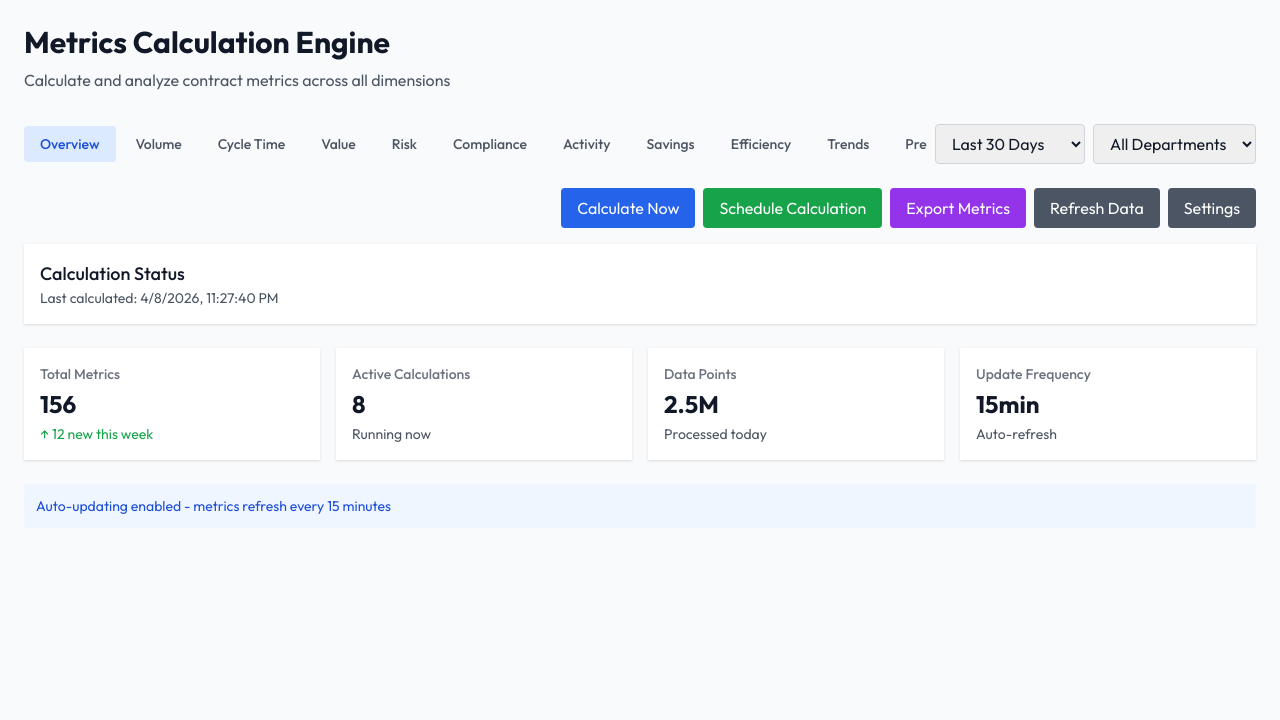
it: MetricsCalculationEngine › Cycle Time Calculations › should display cycle time metrics
The image size is (1280, 720).
Step 1. Click the tab "Cycle Time" → (252, 144), box [202, 126, 301, 162]
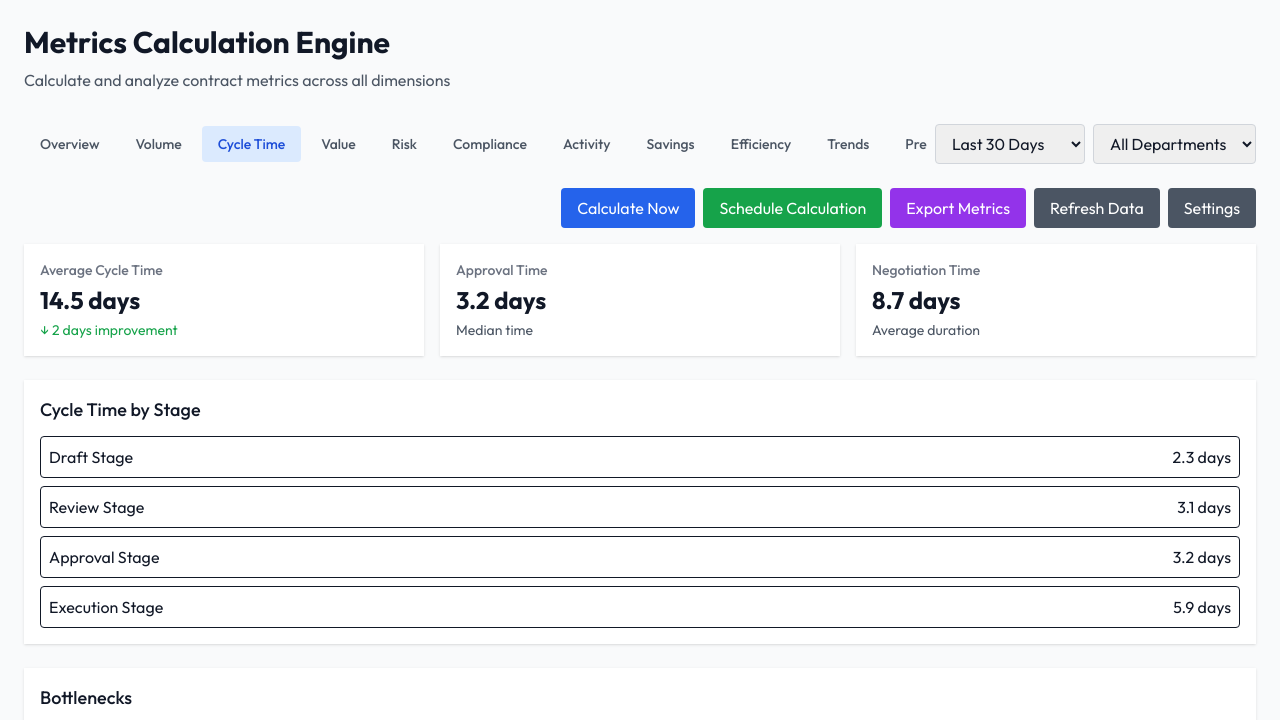
Result: the heading "Average Cycle Time" is shown at [40, 261, 163, 279]
Result: the heading "Approval Time" is shown at [456, 261, 548, 279]
Result: the heading "Negotiation Time" is shown at [872, 261, 980, 279]
